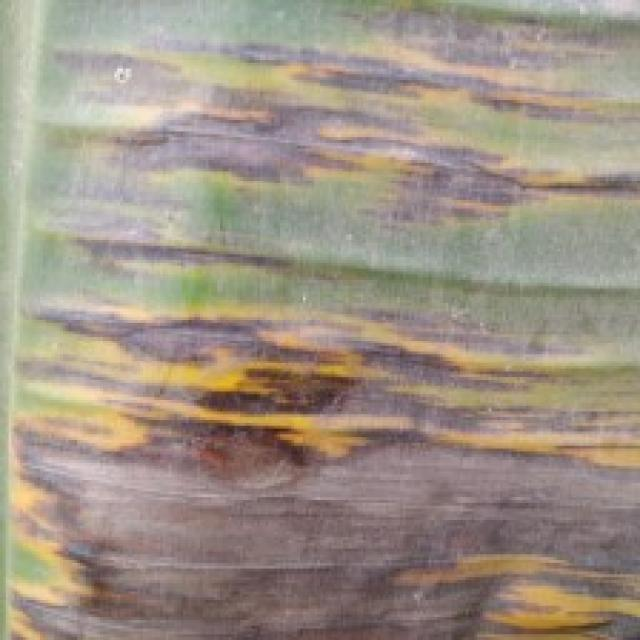Early_leaf_spot: (3, 0, 640, 640), (57, 22, 640, 213), (62, 200, 299, 294)
